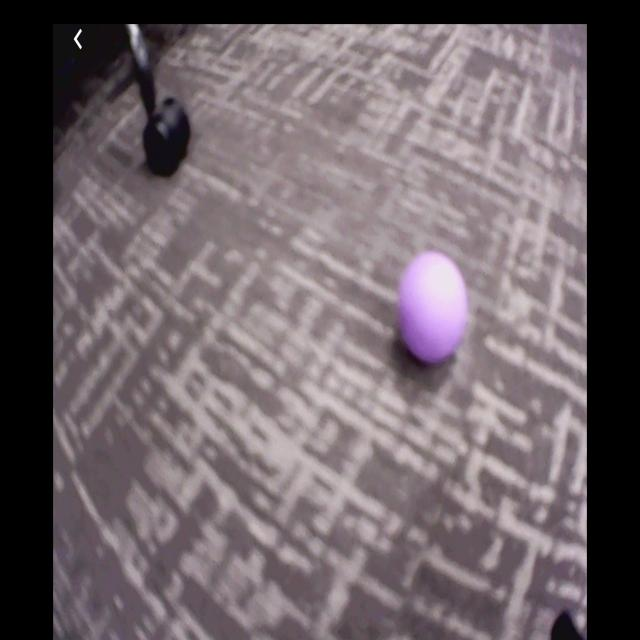ball: (400, 253, 467, 364)
